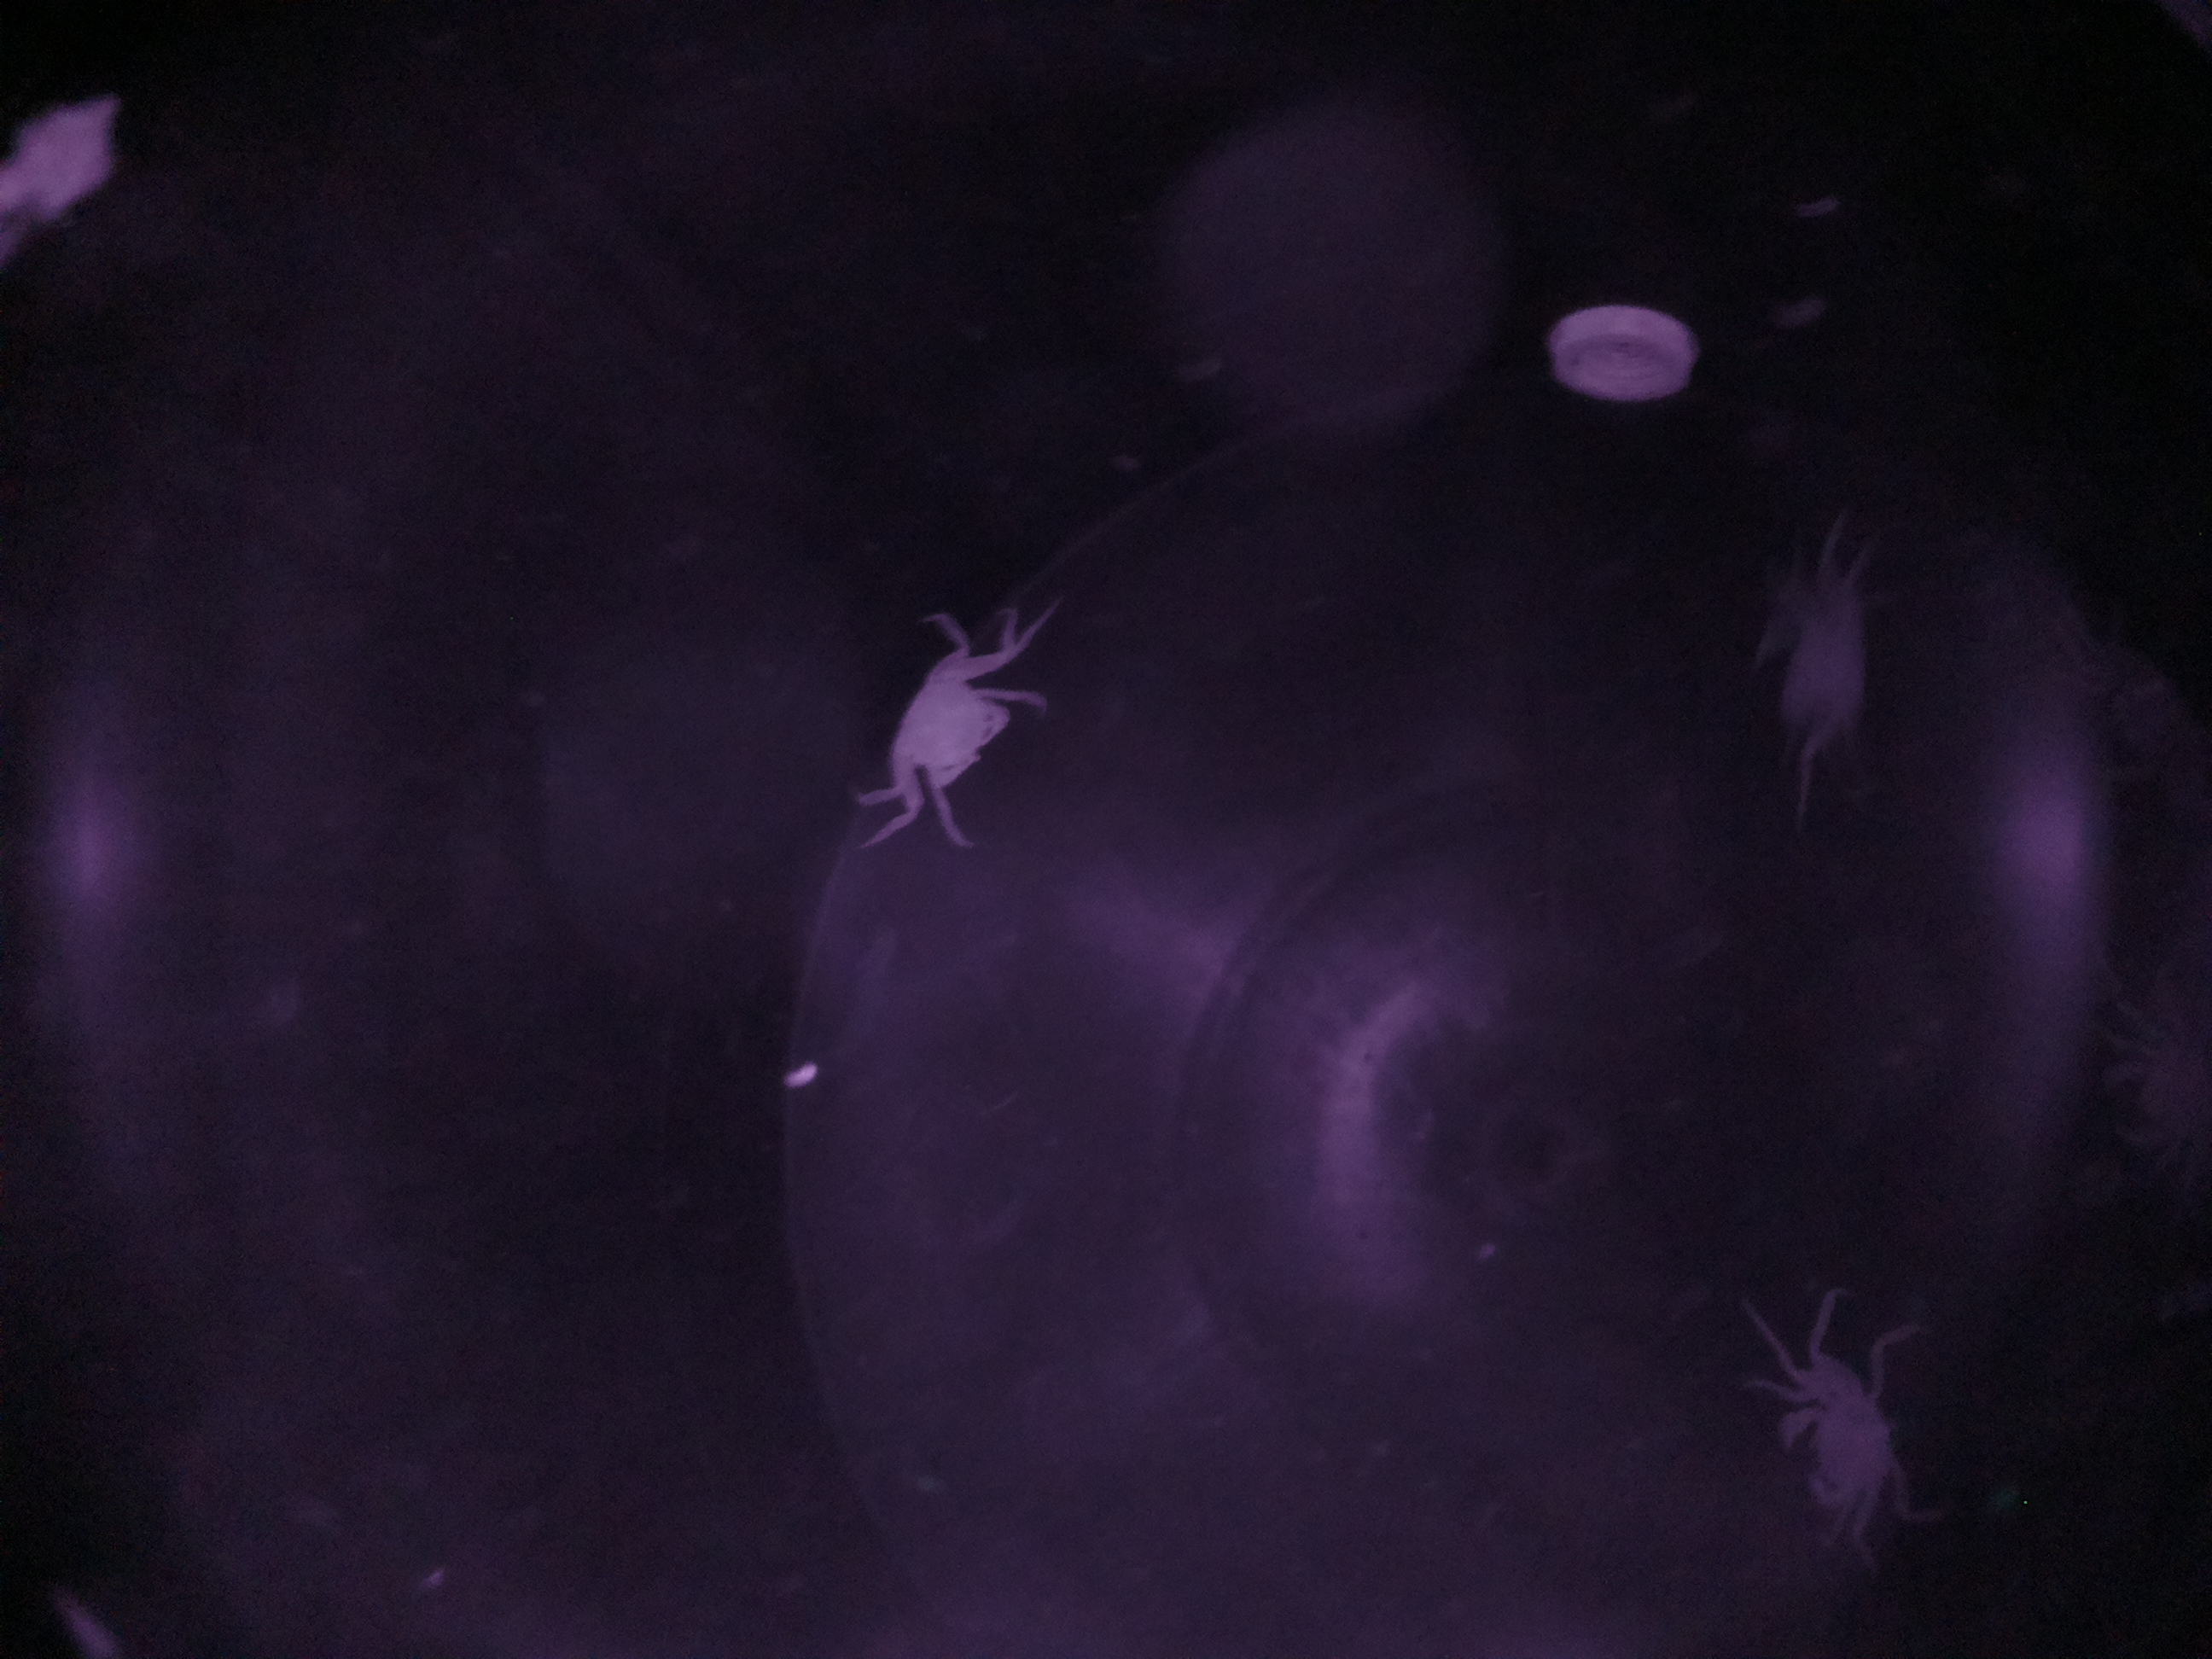Crab: (873, 636, 1035, 809)
